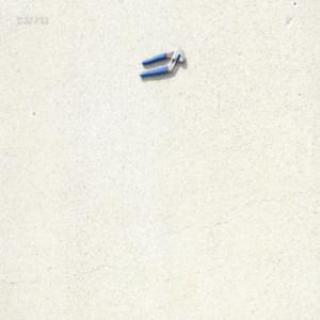Pliertrack_idkeyframe: (137, 44, 185, 78)
